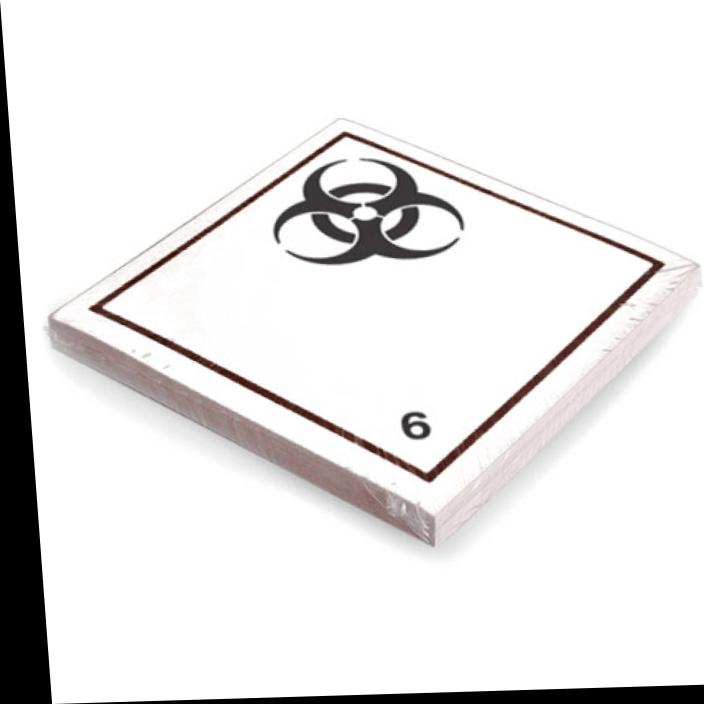doors: (52, 120, 697, 543)
